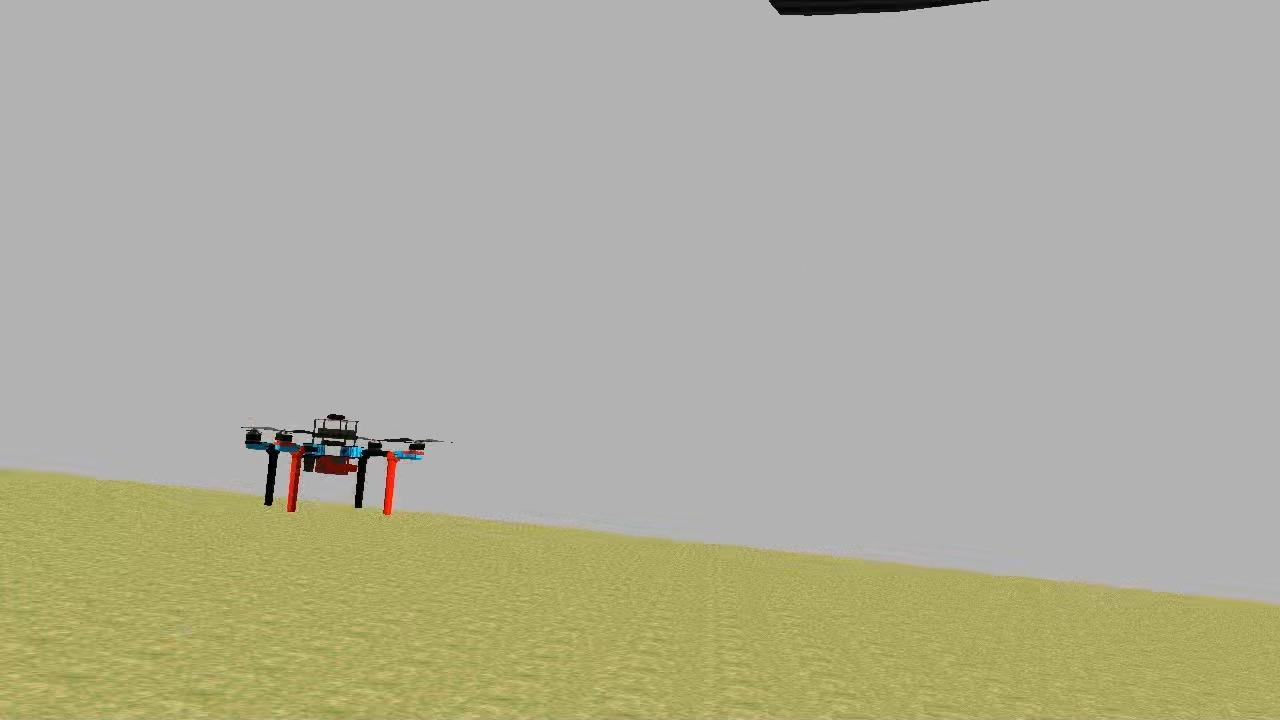UAV: (238, 406, 438, 522)
